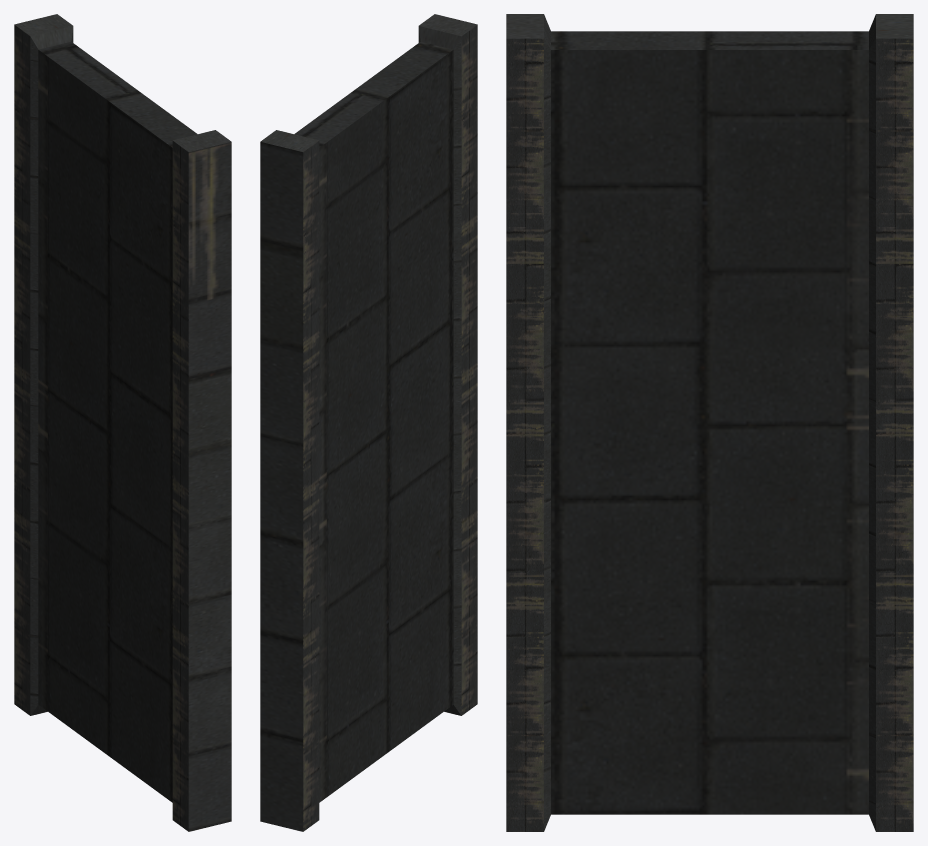
Rendered from Tembok.fbx.
3 views of the same model, side by side, from view 1: azimuth 30°, elevation 25°; view 2: azimuth 150°, elevation 25°; view 3: azimuth 270°, elevation 25° (orthographic). The views are drawn at different scales.
Visible parts, largest first — view 1: Tembok; view 2: Tembok; view 3: Tembok.
Part boxes in pixels (box(x1,y1,x2,y2)): Tembok: box(14, 14, 231, 831); Tembok: box(260, 14, 477, 831); Tembok: box(506, 14, 913, 831).
Size of the model in its own units: 20.72 by 313 by 146.
1 material, 1 textured.
